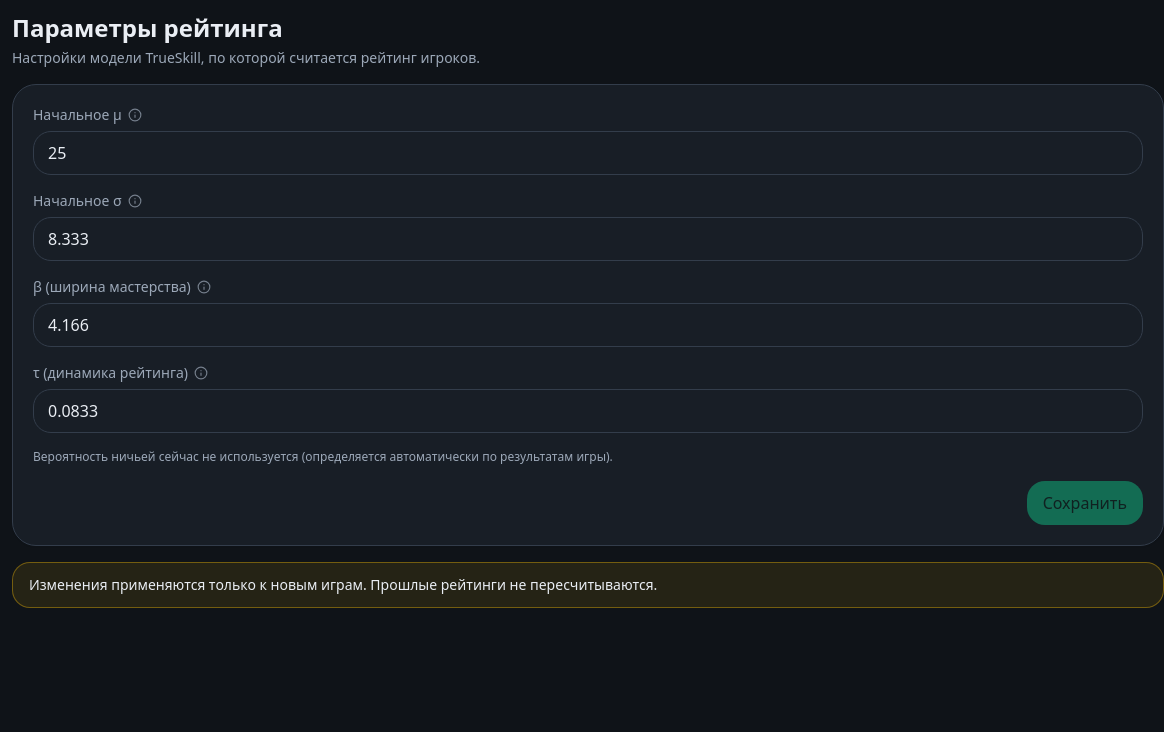
Test case: AdminRatingConfigPage › flags invalid values and re-enables save when corrected
Set an out-of-range value (max for μ is 100).
Replace the text in the number field named "Начальное μ" with "99999" at coordinates (588, 153), box [33, 131, 1143, 175]
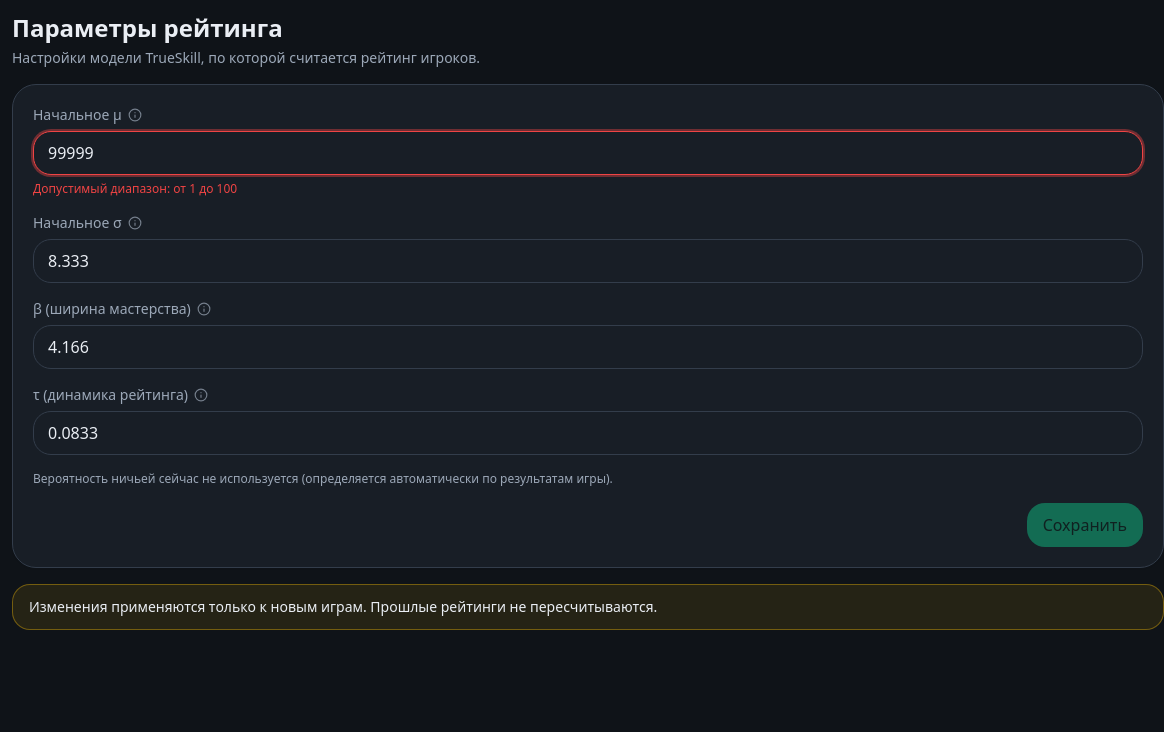
Check: the button "Сохранить" is disabled, box [1027, 503, 1143, 547]
Restore a valid edit.
Replace the text in the number field named "Начальное μ" with "30" at coordinates (588, 153), box [33, 131, 1143, 175]
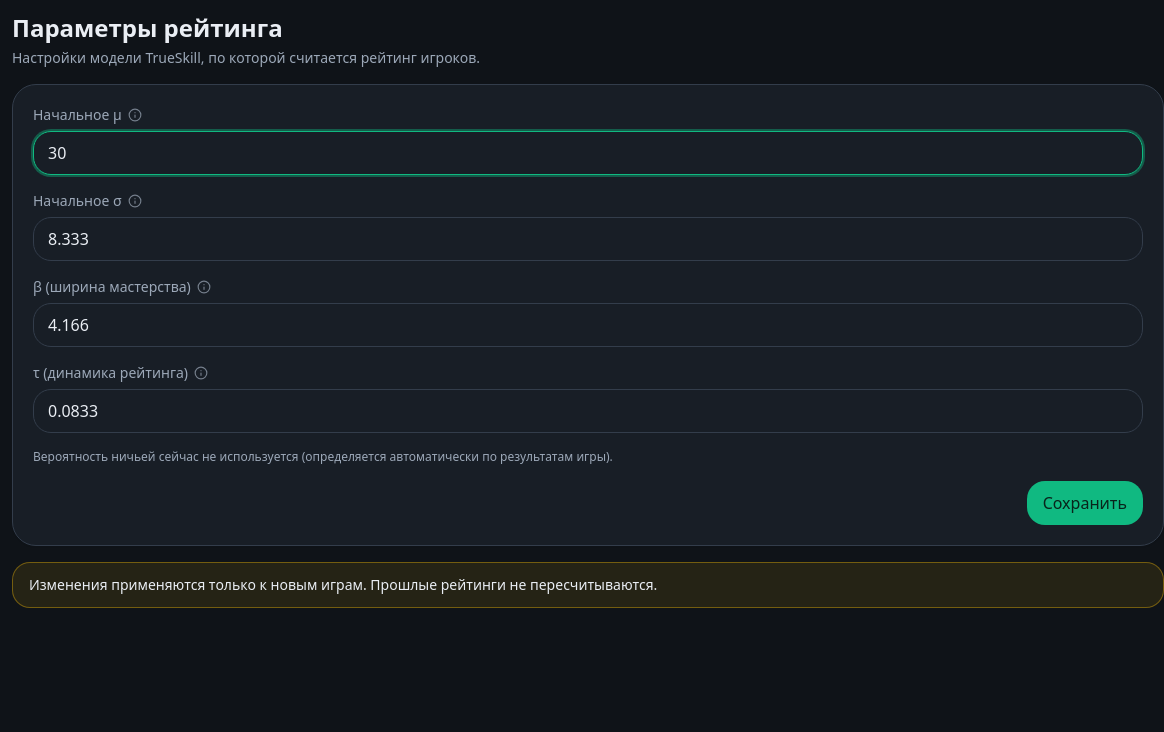
Check: the button "Сохранить" is enabled, box [1027, 481, 1143, 525]
